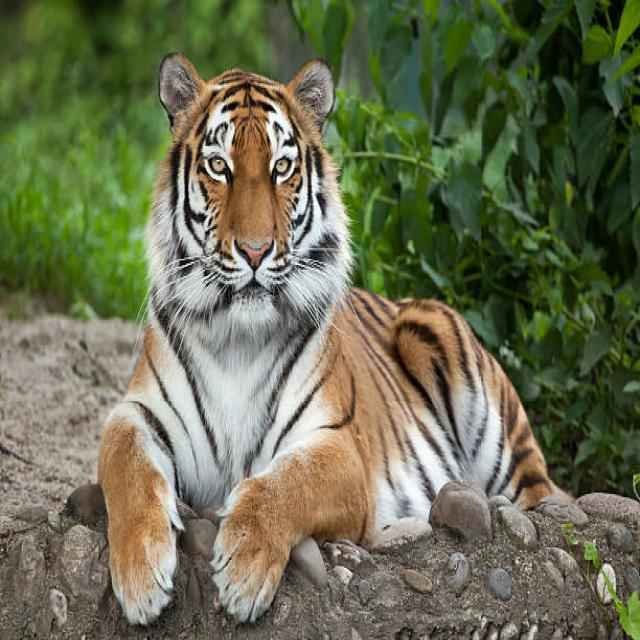not_pig: (96, 48, 588, 628)
